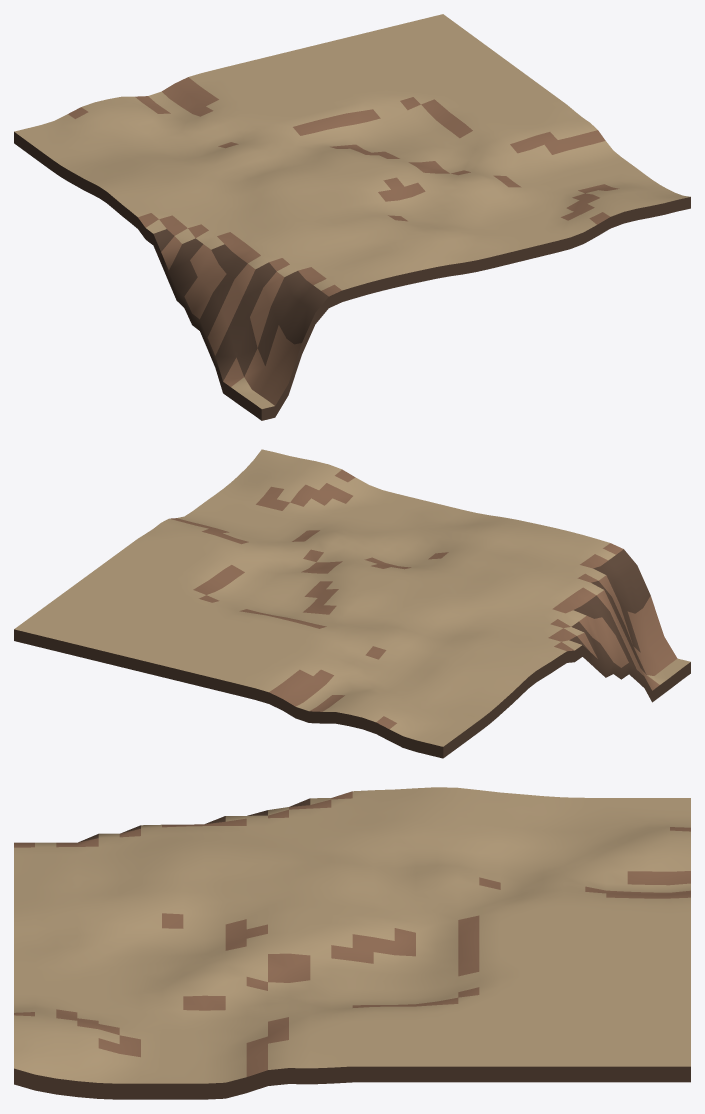
The model's file is Terrain_02_00.fbx.
The picture shows the model from 3 angles, top to bottom: view 1: azimuth 30°, elevation 25°; view 2: azimuth 150°, elevation 25°; view 3: azimuth 270°, elevation 25°; orthographic projection. The views are drawn at different scales.
Visible parts, largest first — view 1: Terrain_02_00_LOD0; view 2: Terrain_02_00_LOD0; view 3: Terrain_02_00_LOD0.
Part boxes in pixels (x1,y1,x2,y2): Terrain_02_00_LOD0: (14, 14, 690, 420); Terrain_02_00_LOD0: (14, 449, 690, 758); Terrain_02_00_LOD0: (14, 787, 690, 1099).
Size of what is drawn, in the model's own units: 384 by 104 by 384.
